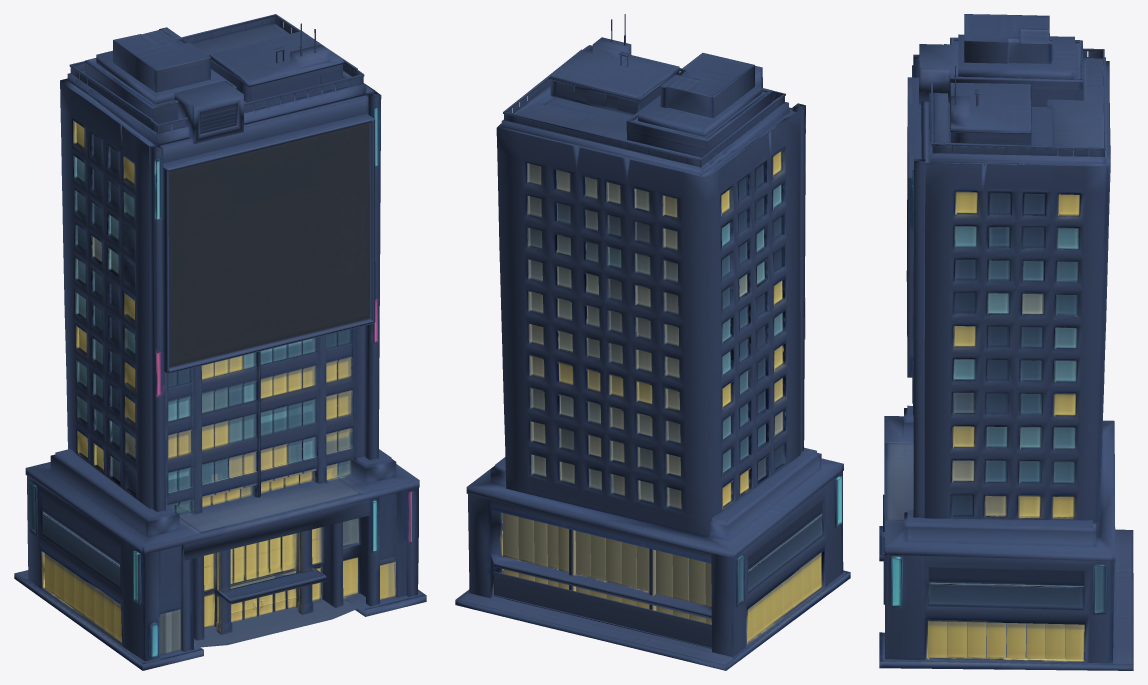
Rendered from c_screen.glb.
3 renders of one model, left to right at view 1: azimuth 30°, elevation 25°; view 2: azimuth 150°, elevation 25°; view 3: azimuth 270°, elevation 25°, orthographic. The views are drawn at different scales.
Visible parts, largest first — view 1: tripo_node_66884324-eaf7-4b1b-a997-ef23e527ddfd; view 2: tripo_node_66884324-eaf7-4b1b-a997-ef23e527ddfd; view 3: tripo_node_66884324-eaf7-4b1b-a997-ef23e527ddfd.
Boxes of the visible parts, x1,y1,x2,y2 form: tripo_node_66884324-eaf7-4b1b-a997-ef23e527ddfd: (14,14,426,670); tripo_node_66884324-eaf7-4b1b-a997-ef23e527ddfd: (455,14,850,670); tripo_node_66884324-eaf7-4b1b-a997-ef23e527ddfd: (879,14,1133,670).
Bounding box in the file's own units: 0.519 × 0.9995 × 0.4097.
Materials: 1 (1 with a texture image).
